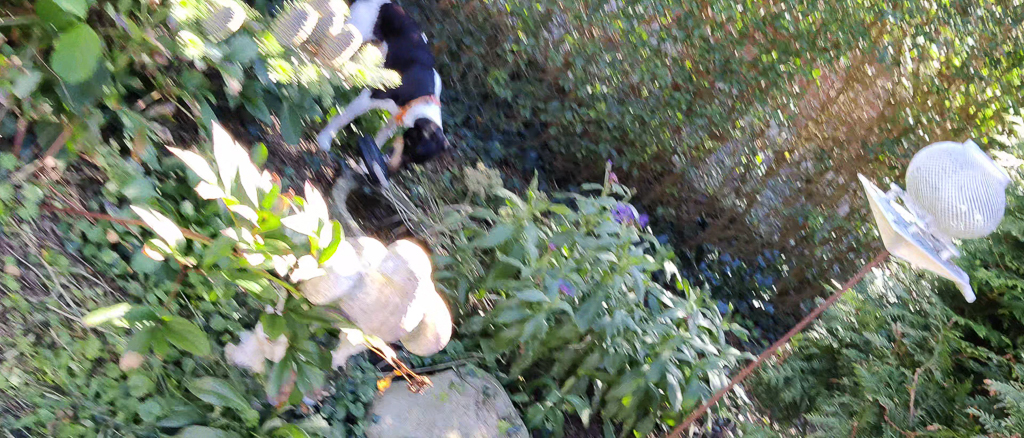Dog: (304, 0, 461, 189)
Eagle: (211, 225, 463, 410)
